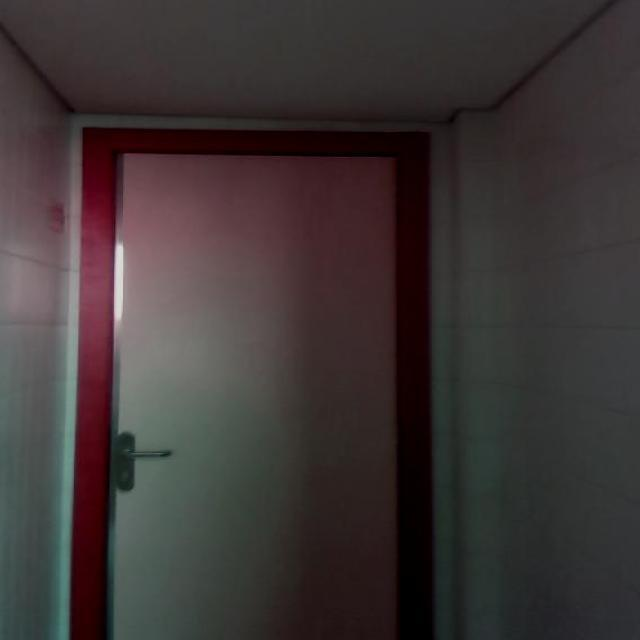door: (105, 144, 402, 639)
